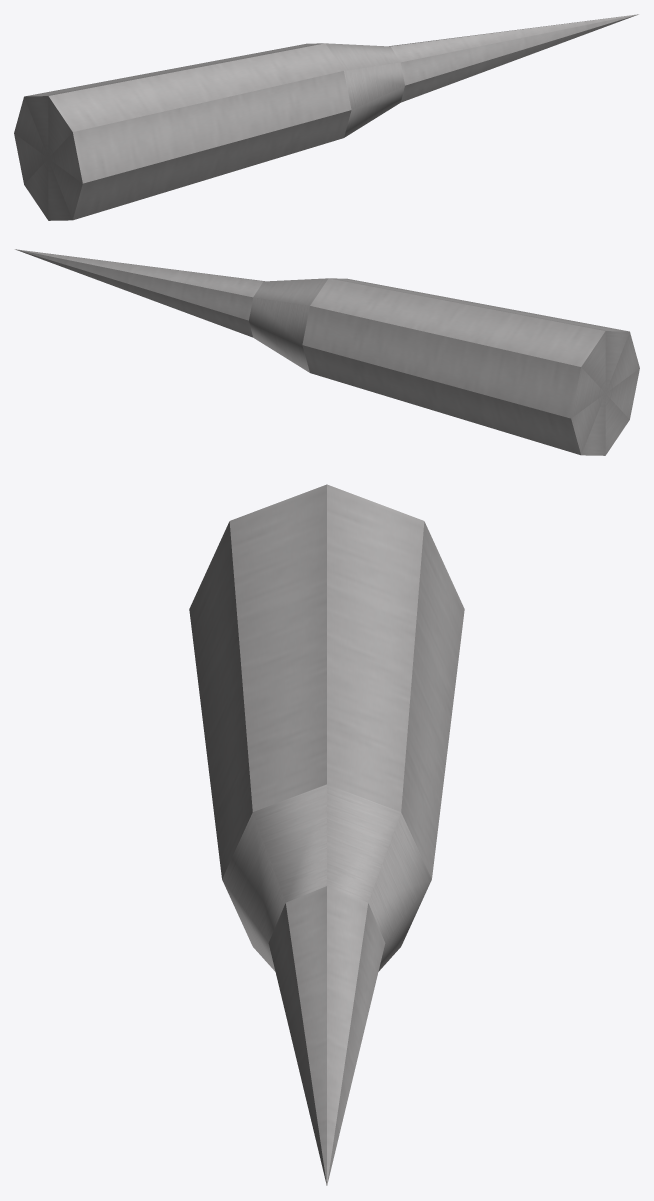
The model's file is pneumaticPin.obj.
3 views of the same model, one above another, from view 1: azimuth 30°, elevation 25°; view 2: azimuth 150°, elevation 25°; view 3: azimuth 270°, elevation 25° (orthographic). The views are drawn at different scales.
Visible parts, largest first — view 1: pneumaticPin; view 2: pneumaticPin; view 3: pneumaticPin.
Part boxes in pixels (x1,y1,x2,y2): pneumaticPin: (14,14,638,220); pneumaticPin: (15,249,639,455); pneumaticPin: (189,484,464,1185).
Bounding box in the file's own units: 2.29 × 0.461 × 0.461.
Materials: 1 (1 with a texture image).
